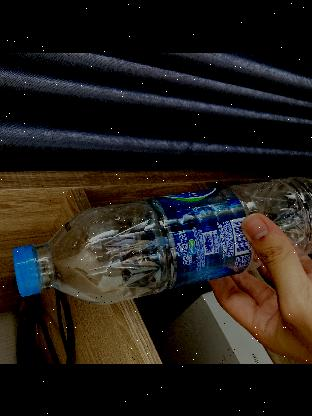Plastic Bottle: (10, 172, 312, 306)
